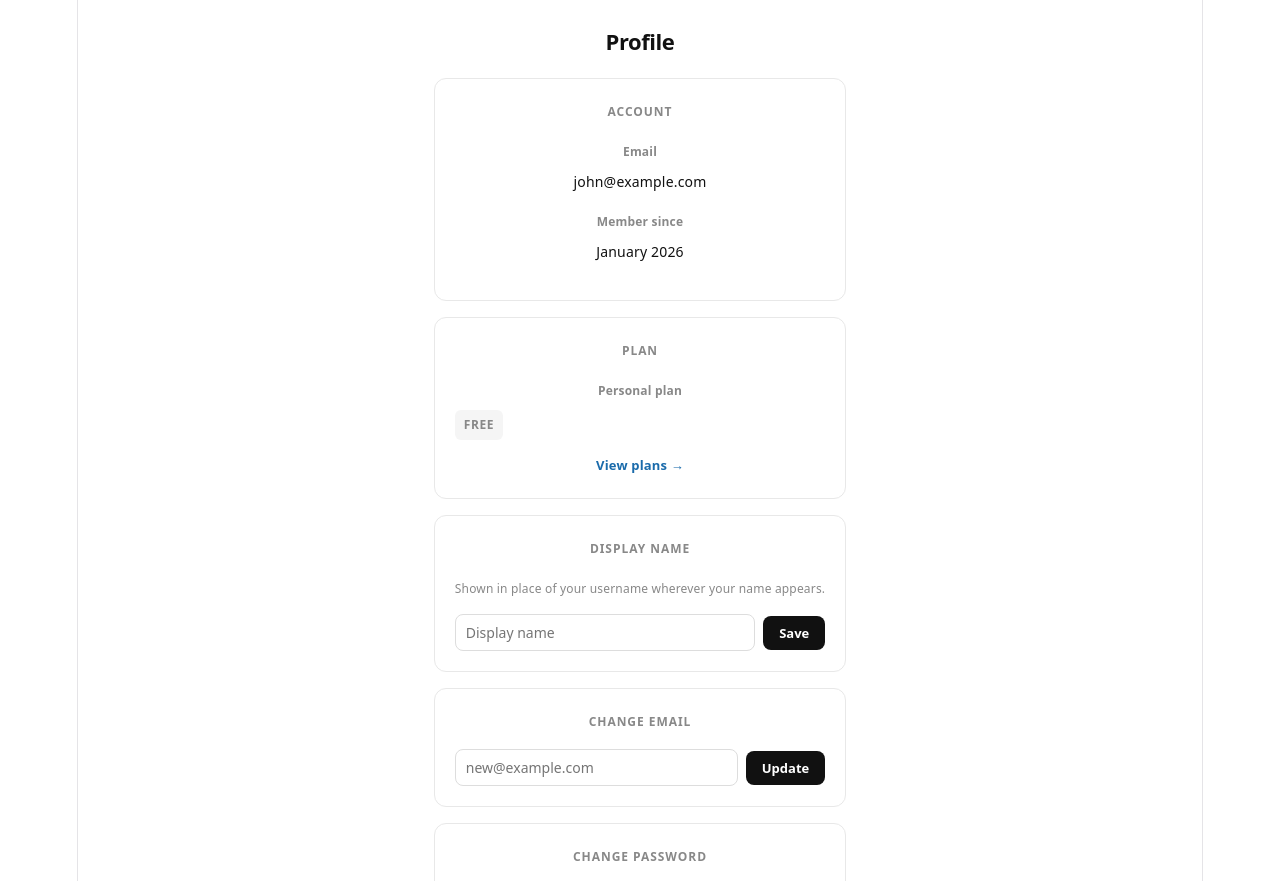
Test case: Profile — display name › shows error when save fails
The image size is (1280, 881).
Step 1. Type "Test" into the field with placeholder "Display name" → (605,633), box left=455, top=614, right=755, bottom=651
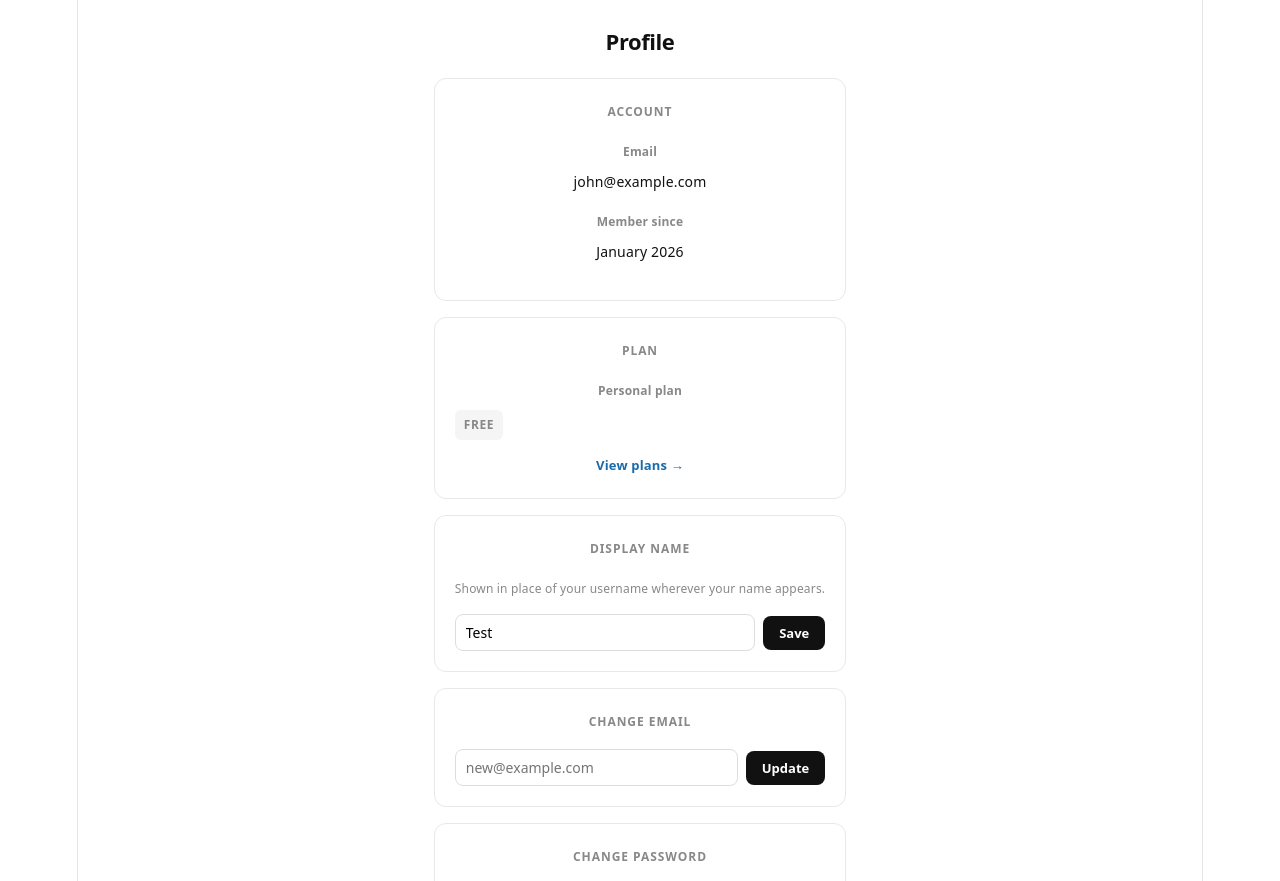
Step 2. Click the button "Save" → (794,633), box left=763, top=616, right=825, bottom=650
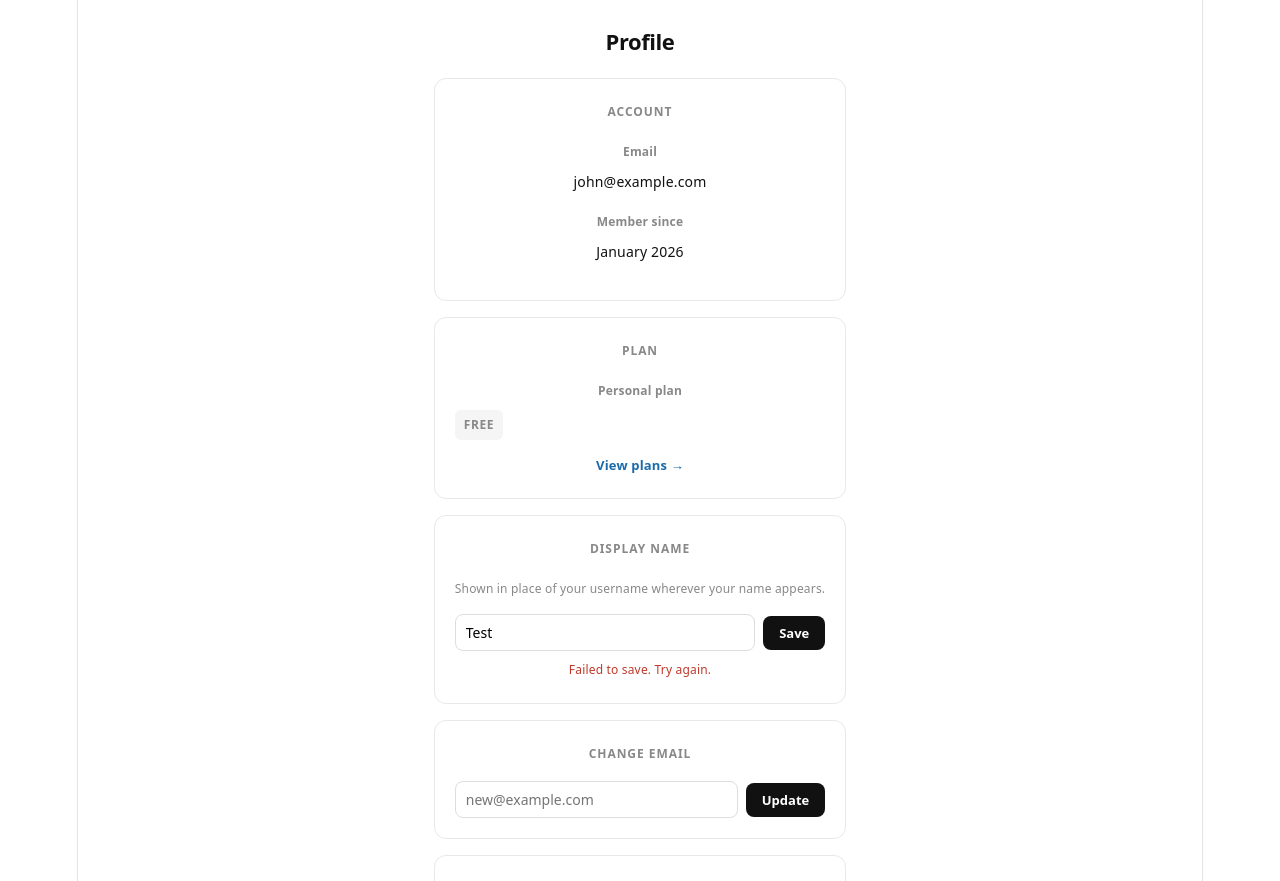
Result: the text "Failed to save. Try again." is shown at left=569, top=661, right=711, bottom=678
